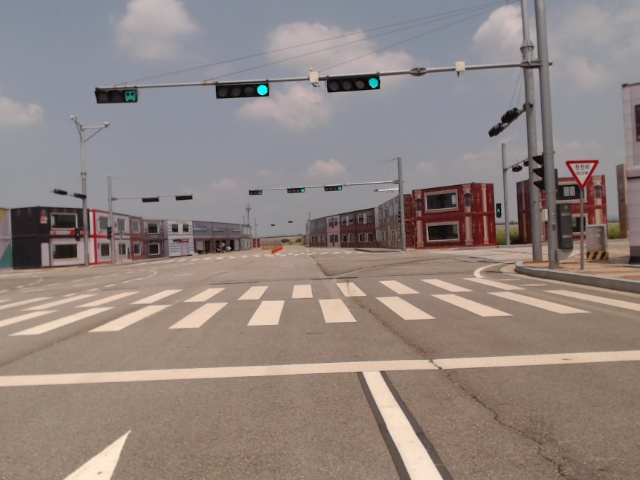straight_green_4: (328, 74, 381, 91), (215, 82, 271, 98), (286, 188, 306, 194), (326, 186, 343, 192)
